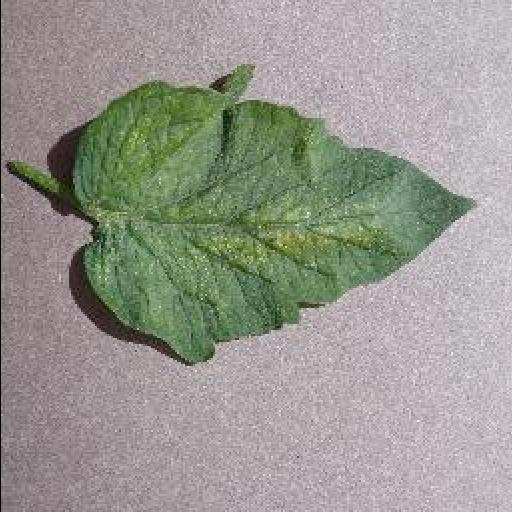disease_tomato: (72, 62, 480, 362)
